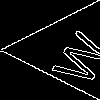W: (41, 25, 100, 89)
